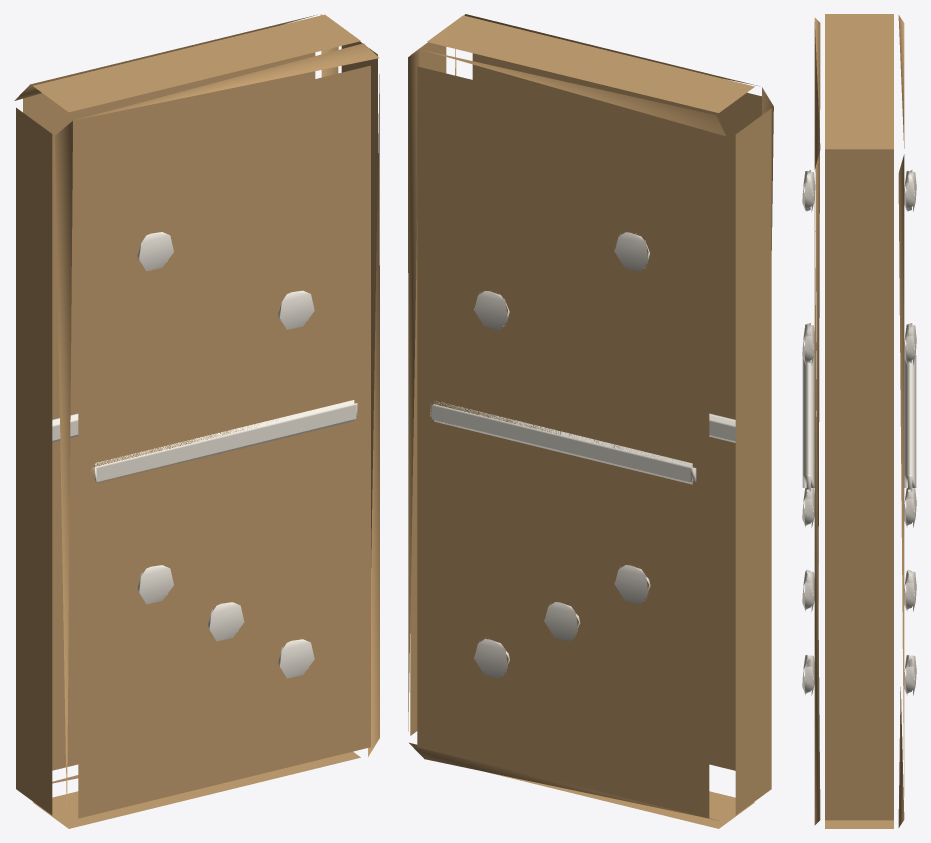
The model's file is wood_domino_bevel.glb.
3 renders of one model, left to right at view 1: azimuth 30°, elevation 25°; view 2: azimuth 150°, elevation 25°; view 3: azimuth 270°, elevation 25°, orthographic. The views are drawn at different scales.
Visible parts, largest first — view 1: Body, Divider_-0.125, Pip_-0.125_0.19_-0.6, Pip_-0.125_-0.19_0.54, Pip_-0.125_0.19_0.3, Pip_-0.125_-0.19_-0.32, Pip_-0.125_0.0_-0.46; view 2: Body, Divider_0.125, Pip_0.125_0.19_-0.6, Pip_0.125_-0.19_0.54, Pip_0.125_-0.19_-0.32, Pip_0.125_0.19_0.3, Pip_0.125_0.0_-0.46; view 3: Body, Divider_-0.125, Divider_0.125, Pip_-0.125_-0.19_0.54, Pip_0.125_-0.19_0.54, Pip_-0.125_0.19_0.3, Pip_0.125_0.19_0.3, Pip_-0.125_0.0_-0.46, Pip_0.125_0.0_-0.46, Pip_-0.125_0.19_-0.6, Pip_0.125_0.19_-0.6, Pip_-0.125_-0.19_-0.32 (+1 smaller).
Part boxes in pixels (x1,y1,x2,y2): Body: (14, 14, 379, 828); Divider_-0.125: (91, 400, 357, 483); Pip_-0.125_0.19_-0.6: (278, 639, 314, 678); Pip_-0.125_-0.19_0.54: (137, 232, 173, 271); Pip_-0.125_0.19_0.3: (278, 290, 314, 329); Pip_-0.125_-0.19_-0.32: (137, 565, 173, 604); Pip_-0.125_0.0_-0.46: (208, 602, 244, 641); Body: (408, 14, 773, 828); Divider_0.125: (430, 401, 696, 484); Pip_0.125_0.19_-0.6: (474, 637, 509, 678); Pip_0.125_-0.19_0.54: (614, 232, 649, 271); Pip_0.125_-0.19_-0.32: (614, 565, 650, 604); Pip_0.125_0.19_0.3: (474, 291, 509, 330); Pip_0.125_0.0_-0.46: (544, 602, 580, 641); Body: (814, 14, 904, 828); Divider_-0.125: (802, 355, 814, 491); Divider_0.125: (904, 355, 916, 491); Pip_-0.125_-0.19_0.54: (802, 170, 815, 211); Pip_0.125_-0.19_0.54: (904, 170, 916, 211); Pip_-0.125_0.19_0.3: (802, 323, 814, 365); Pip_0.125_0.19_0.3: (904, 323, 916, 364); Pip_-0.125_0.0_-0.46: (802, 569, 814, 611); Pip_0.125_0.0_-0.46: (904, 569, 916, 611); Pip_-0.125_0.19_-0.6: (802, 655, 814, 695); Pip_0.125_0.19_-0.6: (904, 654, 916, 695); Pip_-0.125_-0.19_-0.32: (802, 488, 814, 527).
Size of the model in its own units: 0.88 by 1.85 by 0.2824.
